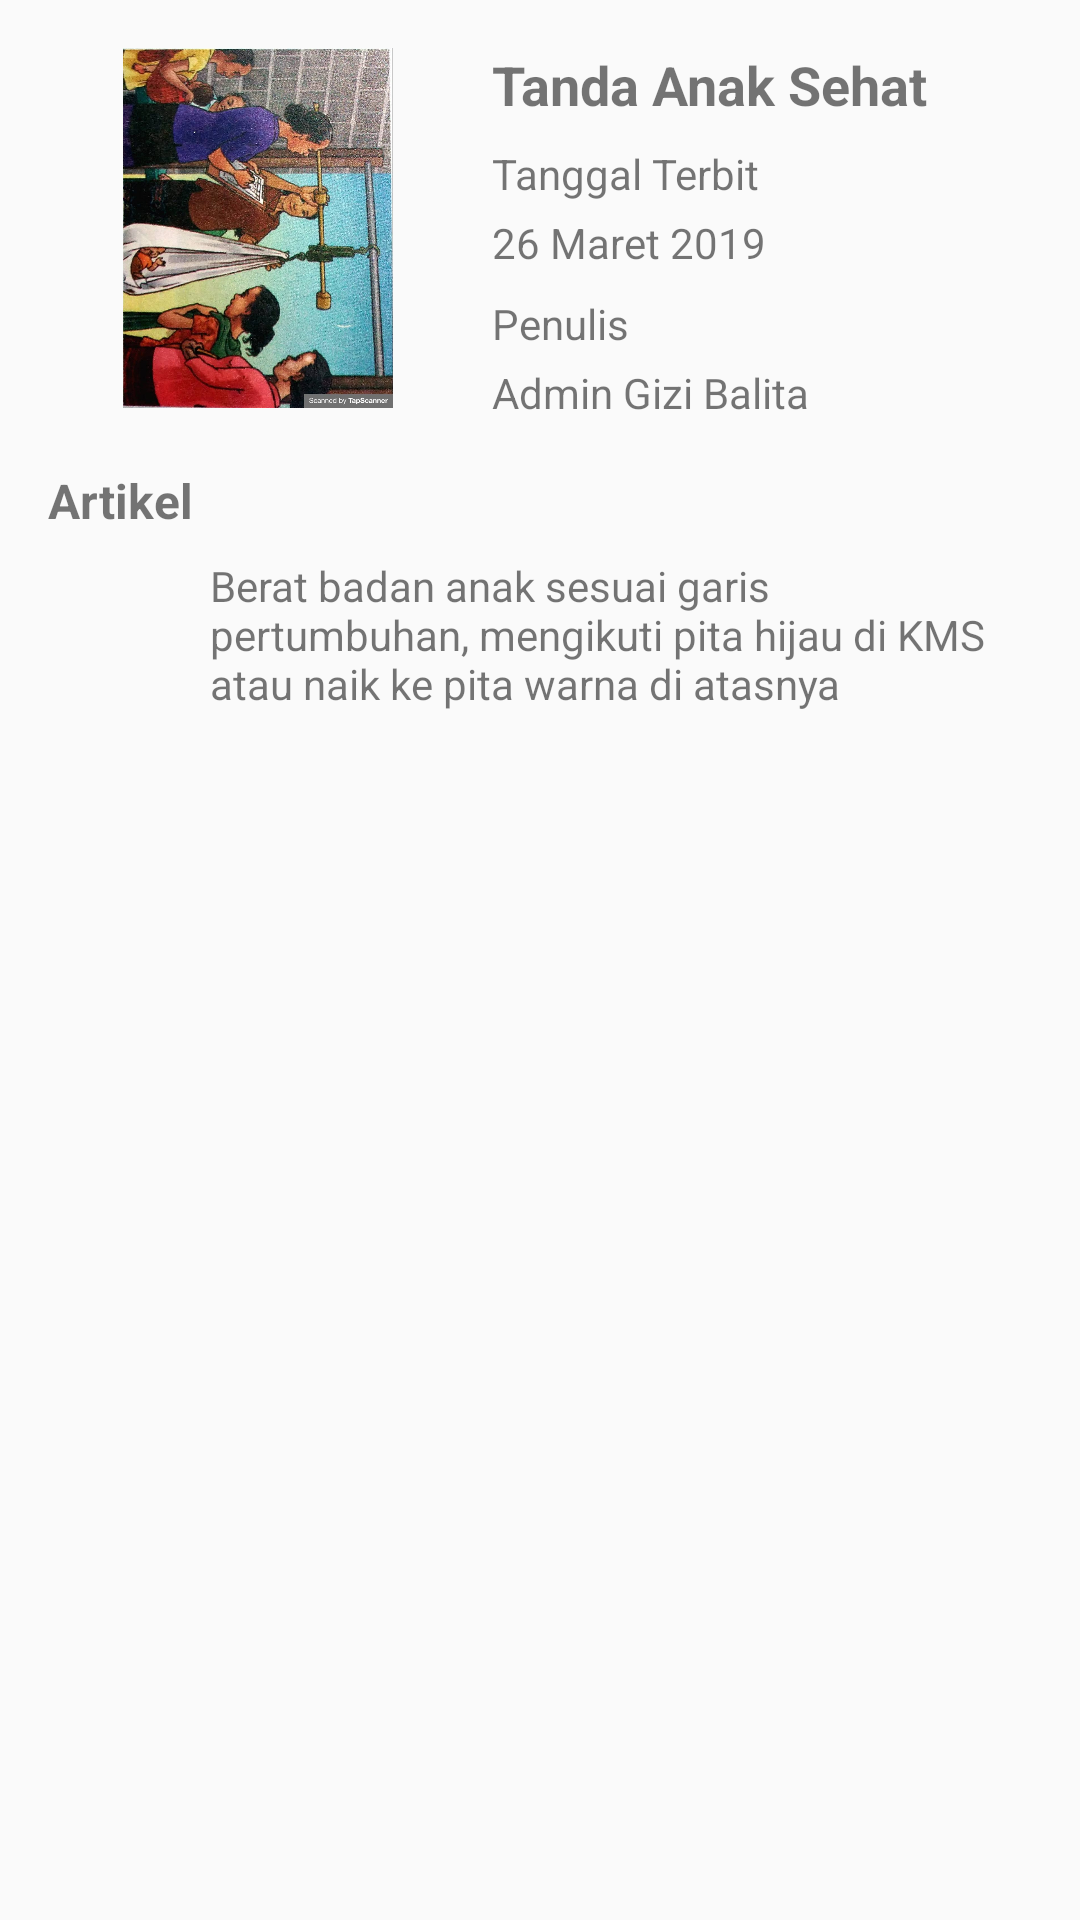

Icons on this 1080px x 1920px Android screen, each with the point to tap as (x=x, y=y):
image place: (x=258, y=228)
